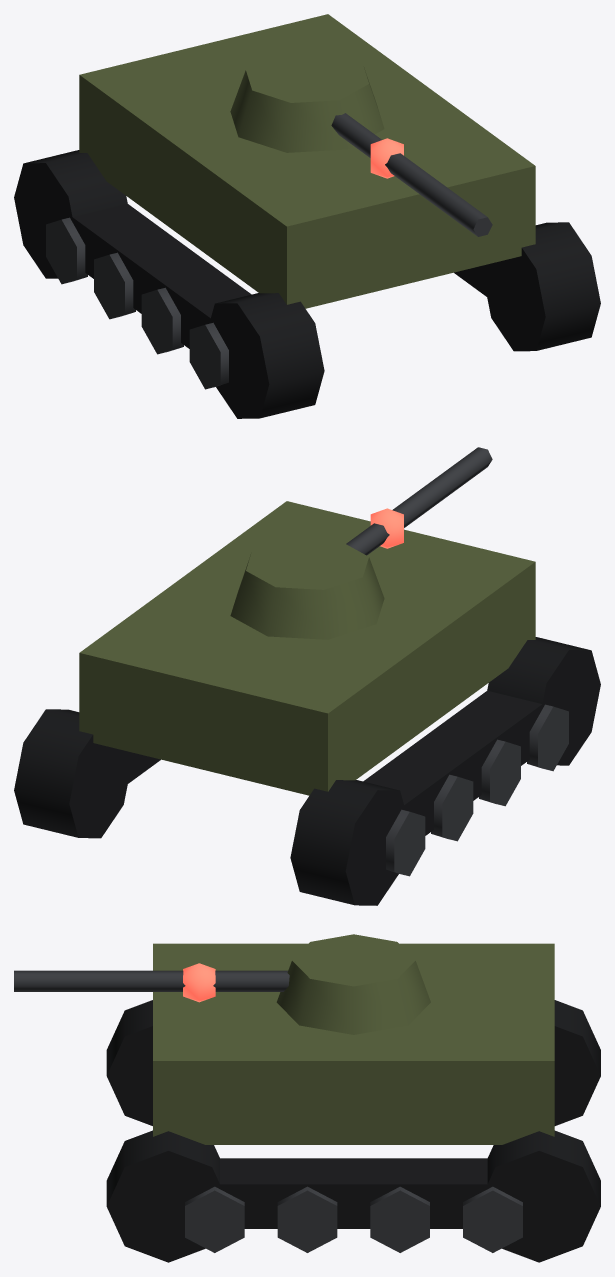
File: unit_mil_ground_drone_a07.glb
The picture shows the model from 3 angles, top to bottom: view 1: azimuth 30°, elevation 25°; view 2: azimuth 150°, elevation 25°; view 3: azimuth 270°, elevation 25°; orthographic projection. The views are drawn at different scales.
Visible parts, largest first — view 1: body, track_r, turret, track_l; view 2: body, track_r, turret, track_l; view 3: body, track_l, turret, track_r.
Boxes of the visible parts, left/top/right/bottom form: body: left=79, top=14, right=535, bottom=308; track_r: left=14, top=150, right=324, bottom=418; turret: left=230, top=51, right=492, bottom=236; track_l: left=454, top=222, right=600, bottom=351; body: left=79, top=501, right=535, bottom=795; track_r: left=290, top=637, right=600, bottom=905; turret: left=230, top=447, right=492, bottom=639; track_l: left=14, top=709, right=160, bottom=838; body: left=153, top=943, right=554, bottom=1144; track_l: left=106, top=1130, right=600, bottom=1262; turret: left=14, top=934, right=430, bottom=1034; track_r: left=106, top=1000, right=600, bottom=1125.
Size of what is drawn, in the model's own units: 1.26 by 0.8 by 1.9.
